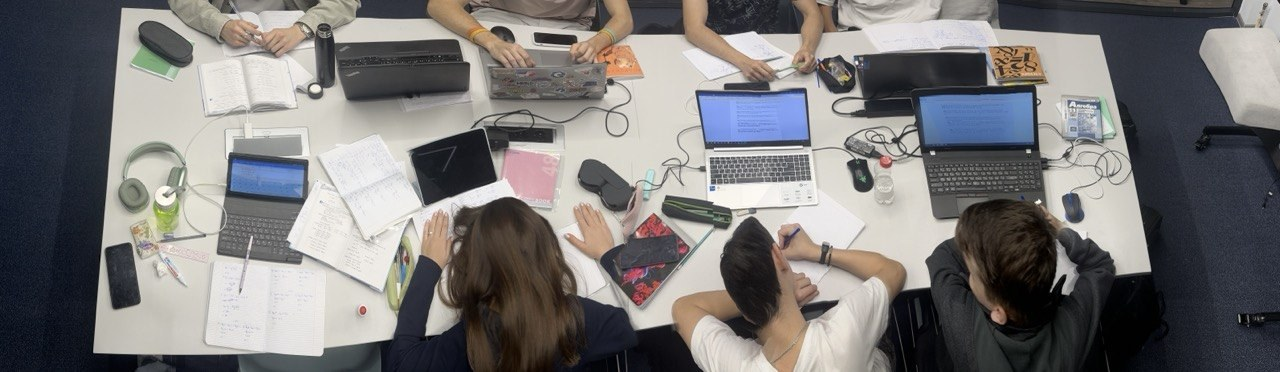cell phone: (105, 242, 141, 309), (612, 235, 682, 269), (533, 32, 578, 46), (724, 81, 770, 91)
laptop: (910, 85, 1048, 219), (695, 88, 819, 208), (477, 27, 608, 100), (853, 49, 988, 117), (336, 39, 470, 101), (478, 45, 608, 100), (408, 128, 498, 206)
